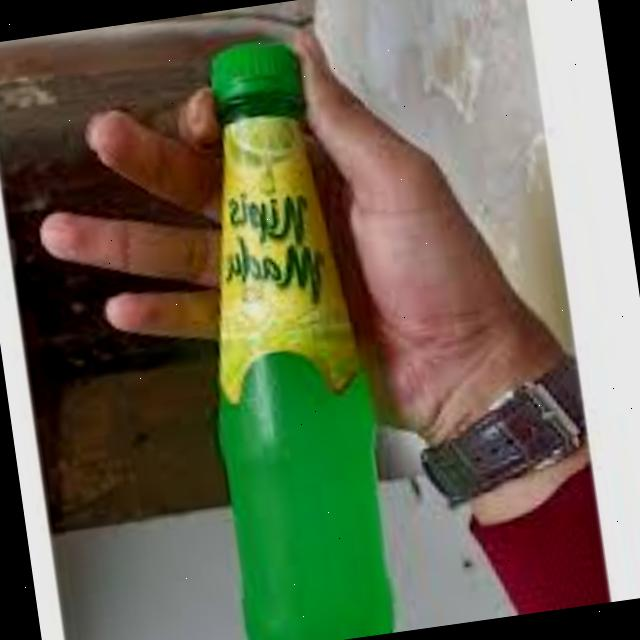trash: (161, 25, 412, 640)
